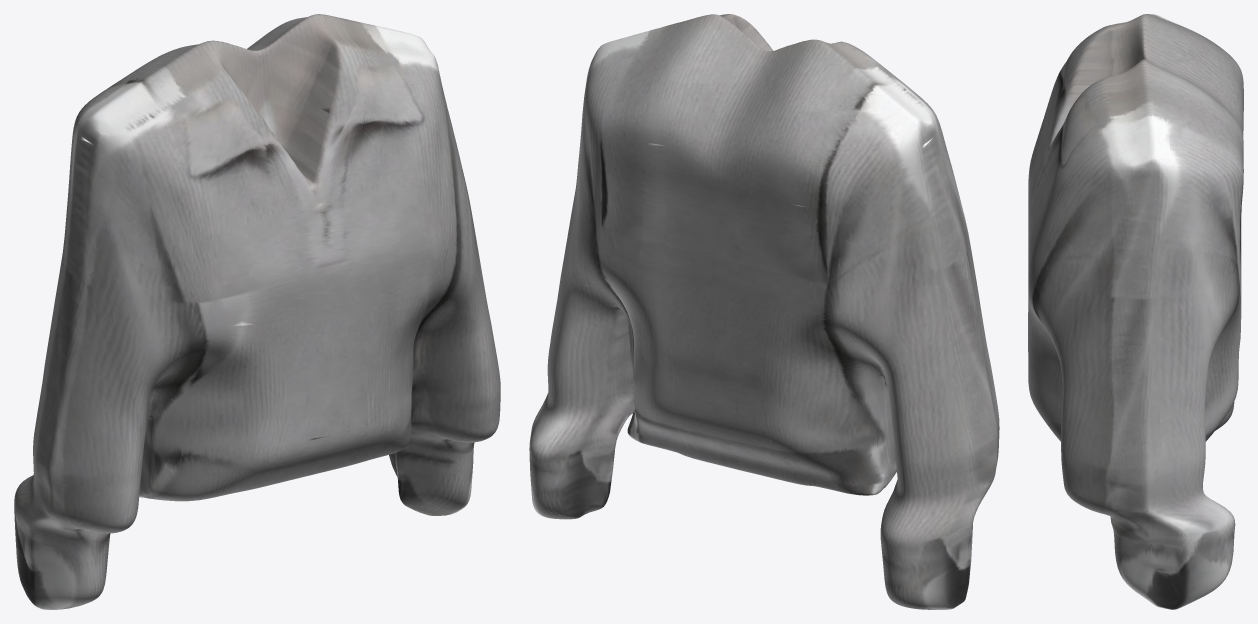
The model's file is NF012-worn-v3.glb.
3 renders of one model, left to right at view 1: azimuth 30°, elevation 25°; view 2: azimuth 150°, elevation 25°; view 3: azimuth 270°, elevation 25°, orthographic. The views are drawn at different scales.
Visible parts, largest first — view 1: NF012_worn_photo_fitted; view 2: NF012_worn_photo_fitted; view 3: NF012_worn_photo_fitted.
Boxes of the visible parts, x1,y1,x2,y2 form: NF012_worn_photo_fitted: (14,14,500,609); NF012_worn_photo_fitted: (529,14,999,609); NF012_worn_photo_fitted: (1028,14,1243,609).
Bounding box in the file's own units: 0.5552 × 0.6386 × 0.2595.
1 material, 1 textured.
